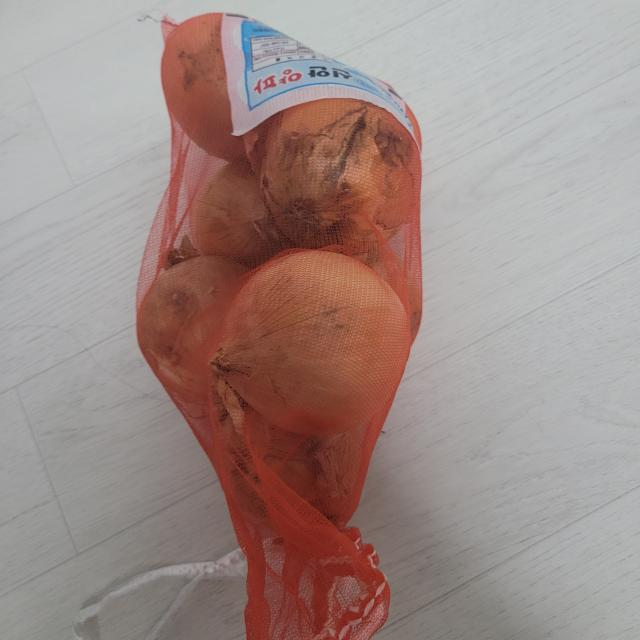onion: (236, 256, 408, 413), (262, 97, 419, 248), (164, 20, 276, 146), (178, 151, 288, 251), (144, 264, 240, 376)
